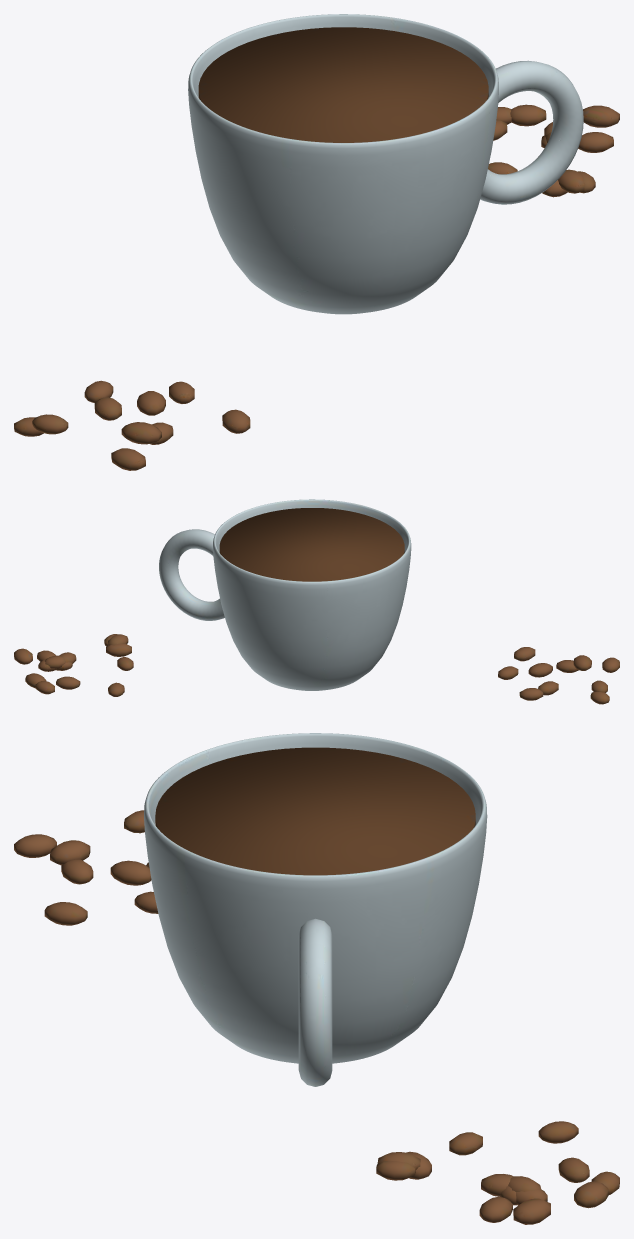
The model's file is cafe-filtrado.glb.
The picture shows the model from 3 angles, top to bottom: view 1: azimuth 30°, elevation 25°; view 2: azimuth 150°, elevation 25°; view 3: azimuth 270°, elevation 25°; orthographic projection. The views are drawn at different scales.
Parts seen in each view (by area): view 1: cafe-filtrado; view 2: cafe-filtrado; view 3: cafe-filtrado.
Boxes of the visible parts, x1,y1,x2,y2 form: cafe-filtrado: [14, 14, 619, 470]; cafe-filtrado: [14, 499, 619, 704]; cafe-filtrado: [14, 733, 619, 1224].
Bounding box in the file's own units: 0.3013 × 0.0809 × 0.1869.
Materials: 1 (1 with a texture image).
